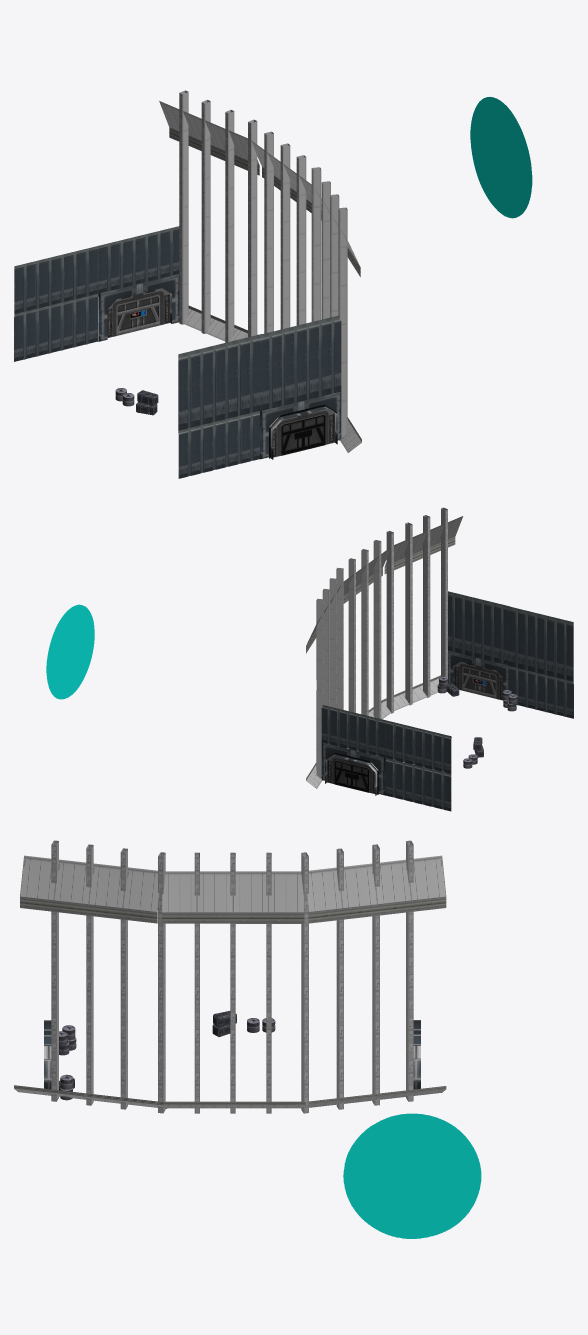
File: env_mana_sith_base_03_pre.glb
The picture shows the model from 3 angles, top to bottom: view 1: azimuth 30°, elevation 25°; view 2: azimuth 150°, elevation 25°; view 3: azimuth 270°, elevation 25°; orthographic projection. The views are drawn at different scales.
Visible parts, largest first — view 1: mana_wall_04_mesh (4), mana_wall_04_mesh (3), sun_moon_plane_mesh (8), mana_arch_door_01a_mesh (×2), mana_wall_04_mesh (6), mana_wall_04_mesh (7), mana_wall_04_mesh (2), mana_wall_04_mesh (5), mana_arch_door_01b_mesh (×2), mana_pillar_02_mesh (17), mana_pillar_02_mesh (14), mana_pillar_02_mesh (13) (+17 smaller); view 2: mana_wall_04_mesh (3), mana_wall_04_mesh (4), sun_moon_plane_mesh (8), mana_arch_door_01a_mesh (×2), mana_wall_04_mesh (7), mana_wall_04_mesh (6), mana_wall_04_mesh (5), mana_wall_04_mesh (2), mana_arch_door_01b_mesh (×2), mana_pillar_02_mesh (13), mana_pillar_02_mesh (26), mana_pillar_02_mesh (20) (+19 smaller); view 3: sun_moon_plane_mesh (8), mana_wall_01b_mesh (7), mana_wall_01b_mesh (6), mana_wall_01b_mesh (10), mana_wall_01b_mesh (8), mana_wall_01b_mesh (9), mana_wall_01b_mesh (11), mana_pillar_02_mesh (3), mana_pillar_02_mesh (7), mana_pillar_02_mesh (6), mana_pillar_02_mesh (11), mana_pillar_02_mesh (23) (+17 smaller).
Boxes of the visible parts, box(x1,y1,x2,y2) form: mana_wall_04_mesh (4): box(259, 315, 341, 411); mana_wall_04_mesh (3): box(178, 334, 261, 430); sun_moon_plane_mesh (8): box(470, 97, 532, 218); mana_arch_door_01a_mesh (×2): box(107, 288, 336, 458); mana_wall_04_mesh (6): box(14, 246, 98, 313); mana_wall_04_mesh (7): box(14, 294, 98, 361); mana_wall_04_mesh (2): box(178, 411, 259, 478); mana_wall_04_mesh (5): box(98, 226, 179, 293); mana_arch_door_01b_mesh (×2): box(98, 274, 341, 459); mana_pillar_02_mesh (17): box(311, 167, 321, 285); mana_pillar_02_mesh (14): box(280, 143, 290, 261); mana_pillar_02_mesh (13): box(296, 155, 306, 273); mana_wall_04_mesh (3): box(508, 606, 573, 681); mana_wall_04_mesh (4): box(448, 591, 509, 664); sun_moon_plane_mesh (8): box(46, 604, 94, 699); mana_arch_door_01a_mesh (×2): box(326, 661, 503, 794); mana_wall_04_mesh (7): box(385, 758, 451, 811); mana_wall_04_mesh (6): box(385, 720, 451, 773); mana_wall_04_mesh (5): box(321, 705, 385, 757); mana_wall_04_mesh (2): box(508, 666, 573, 718); mana_arch_door_01b_mesh (×2): box(321, 650, 508, 795); mana_pillar_02_mesh (13): box(373, 540, 381, 632); mana_pillar_02_mesh (26): box(373, 631, 381, 718); mana_pillar_02_mesh (20): box(316, 598, 323, 690); sun_moon_plane_mesh (8): box(343, 1113, 481, 1238); mana_wall_01b_mesh (7): box(233, 871, 304, 923); mana_wall_01b_mesh (6): box(162, 871, 232, 923); mana_wall_01b_mesh (10): box(88, 863, 159, 923); mana_wall_01b_mesh (8): box(307, 863, 377, 923); mana_wall_01b_mesh (9): box(375, 855, 446, 915); mana_wall_01b_mesh (11): box(20, 855, 90, 915); mana_pillar_02_mesh (3): box(301, 982, 308, 1113); mana_pillar_02_mesh (7): box(406, 970, 413, 1101); mana_pillar_02_mesh (6): box(372, 974, 379, 1105); mana_pillar_02_mesh (11): box(51, 970, 58, 1101); mana_pillar_02_mesh (23): box(86, 974, 93, 1105).
Size of what is drawn, in the model's own units: 43.57 by 23.35 by 38.91.
Materials: 7 (7 with a texture image).
